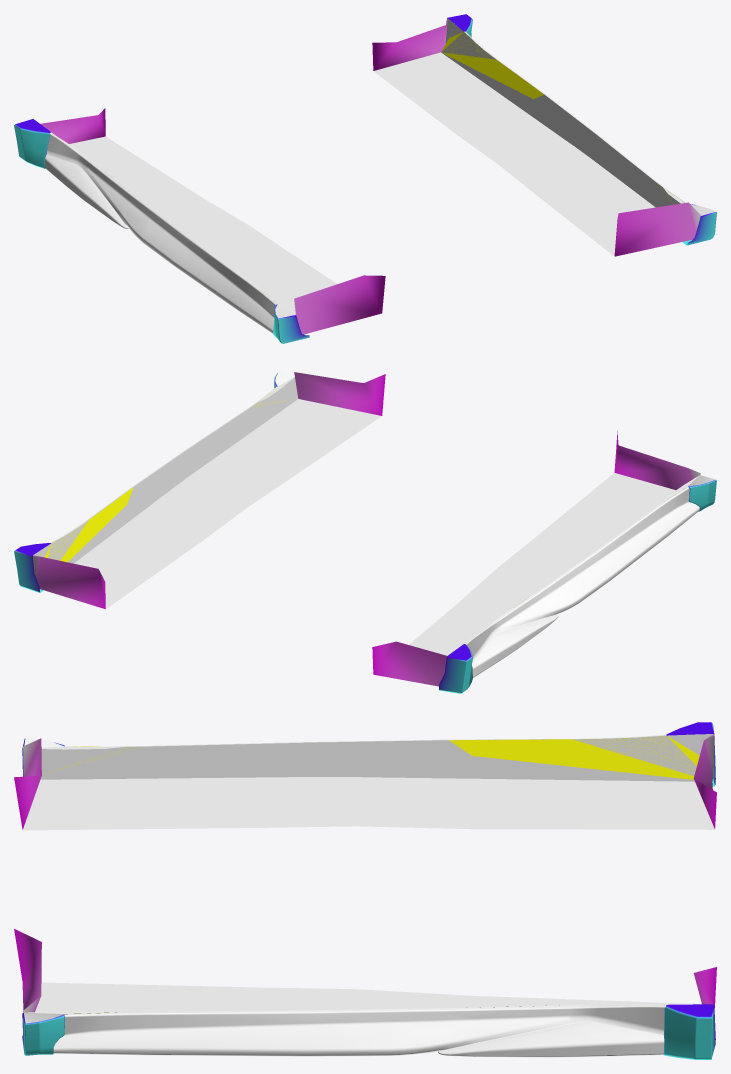
The model's file is Car_Mini_CountrymanJCW_2017_Skirts_SetF_AltE.fbx.
The picture shows the model from 3 angles, top to bottom: view 1: azimuth 30°, elevation 25°; view 2: azimuth 150°, elevation 25°; view 3: azimuth 270°, elevation 25°; orthographic projection. The views are drawn at different scales.
Parts seen in each view (by area): view 1: Skirts 6; view 2: Skirts 6; view 3: Skirts 6.
Boxes of the visible parts, <box> form: Skirts 6: <box>14,14,716,343</box>; Skirts 6: <box>14,372,716,693</box>; Skirts 6: <box>14,722,716,1059</box>.
Bounding box in the file's own units: 1.89 × 0.1912 × 1.9.
